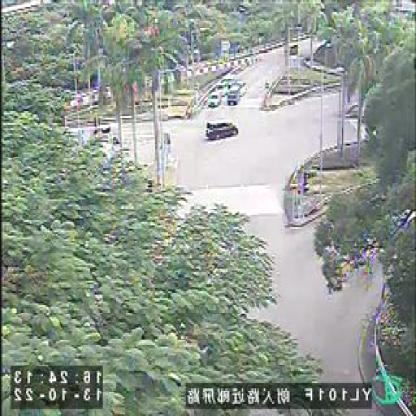Car: (204, 117, 237, 142), (226, 86, 240, 104), (206, 93, 221, 108)
